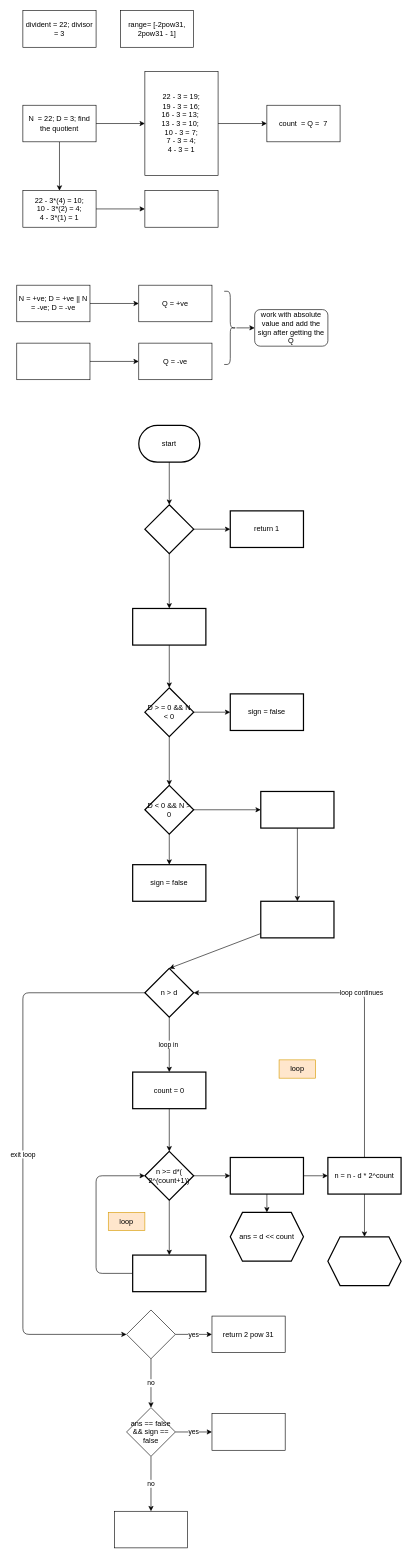
This 412x1559 diagram has some shape labels left out. The shapes that lost their labels are listed below. From the top down, each one's centre as x and y in pixels, then its label:
At point 181,208: "Q = 4 + 2 + 1 = 7".
At point 53,361: "N = +ve; D = -ve || N = +ve; D = -ve".
At point 169,529: "D == Q".
At point 169,626: "sign = true // +ve".
At point 297,809: "n = abs(N); d = abs(D)".
At point 297,919: "ans = 0".
At point 266,1175: "ans = d * 2^ count".
At point 169,1273: "count ++;".
At point 364,1261: "n = n - (d << count)".
At point 150,1334: "ans > 2 pow 31 && sign == true".
At point 248,1431: "return (2 pow 31) - 1".
At point 151,1529: "return sign ? ans : -1 * ans".
